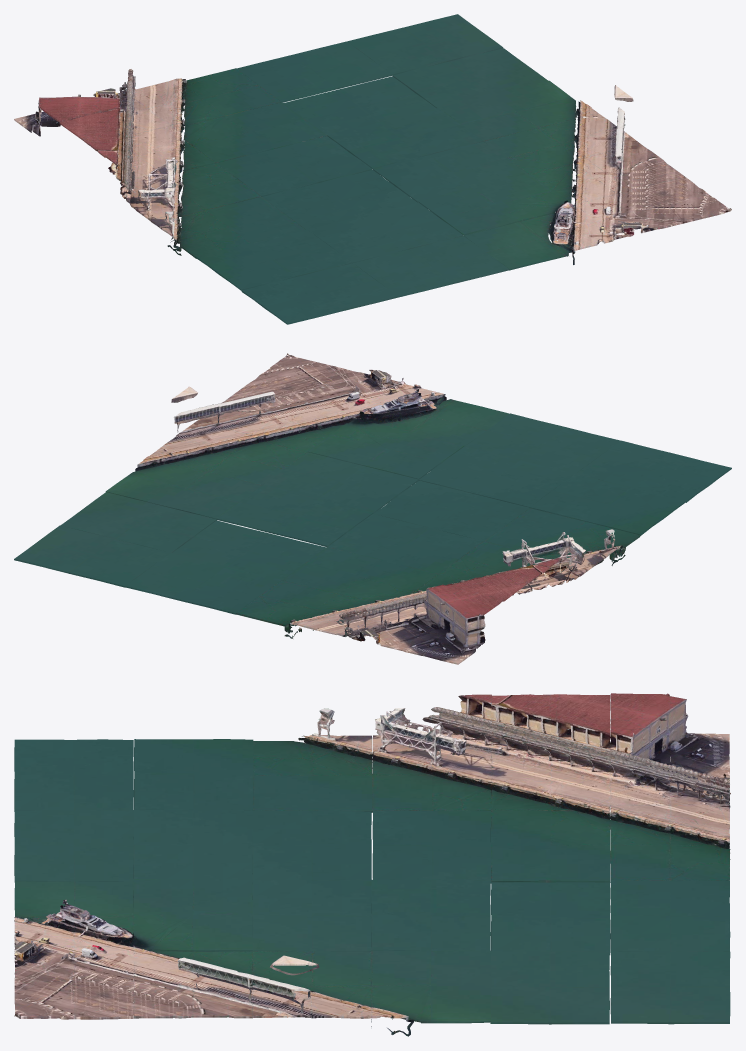
3 views of the same model, one above another, from view 1: azimuth 30°, elevation 25°; view 2: azimuth 150°, elevation 25°; view 3: azimuth 270°, elevation 25° (orthographic). The views are drawn at different scales.
Parts seen in each view (by area): view 1: F03; view 2: F03; view 3: F03.
Part boxes in pixels (left/top/right/bottom): F03: left=14, top=14, right=731, bottom=324; F03: left=14, top=353, right=731, bottom=664; F03: left=14, top=693, right=730, bottom=1036.
Bounding box in the file's own units: 216 × 26.58 × 230.
Materials: 32 (32 with a texture image).
